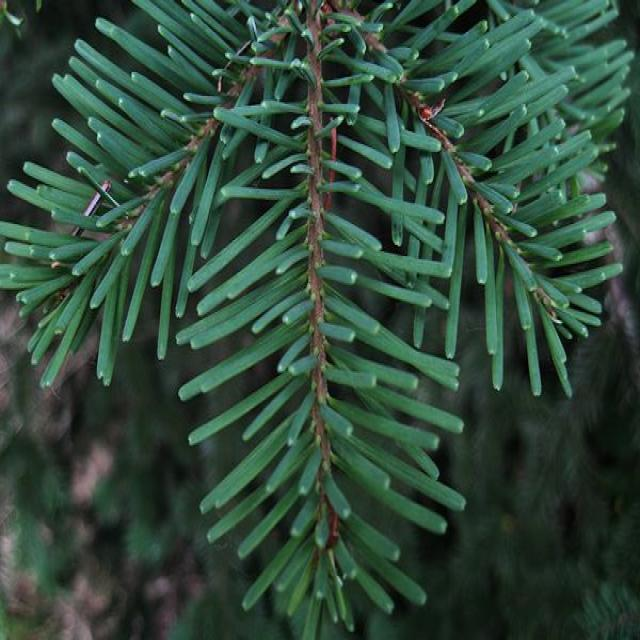Abies: (0, 1, 637, 640)
